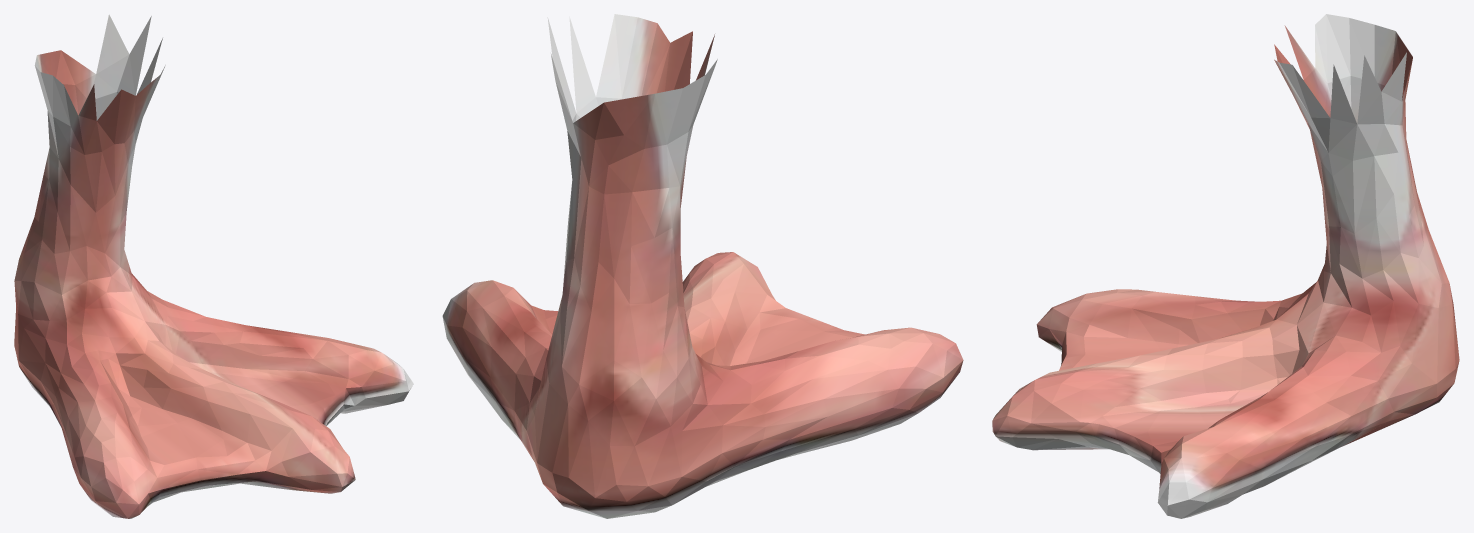
The model's file is LegR.obj.
3 renders of one model, left to right at view 1: azimuth 30°, elevation 25°; view 2: azimuth 150°, elevation 25°; view 3: azimuth 270°, elevation 25°, orthographic. The views are drawn at different scales.
Parts seen in each view (by area): view 1: shape.obj; view 2: shape.obj; view 3: shape.obj.
Part boxes in pixels (<box>): shape.obj: <box>14,14,413,518</box>; shape.obj: <box>442,14,963,518</box>; shape.obj: <box>992,14,1459,518</box>.
Size of the model in its own units: 0.3455 by 0.3431 by 0.3695.
Materials: 1 (1 with a texture image).
